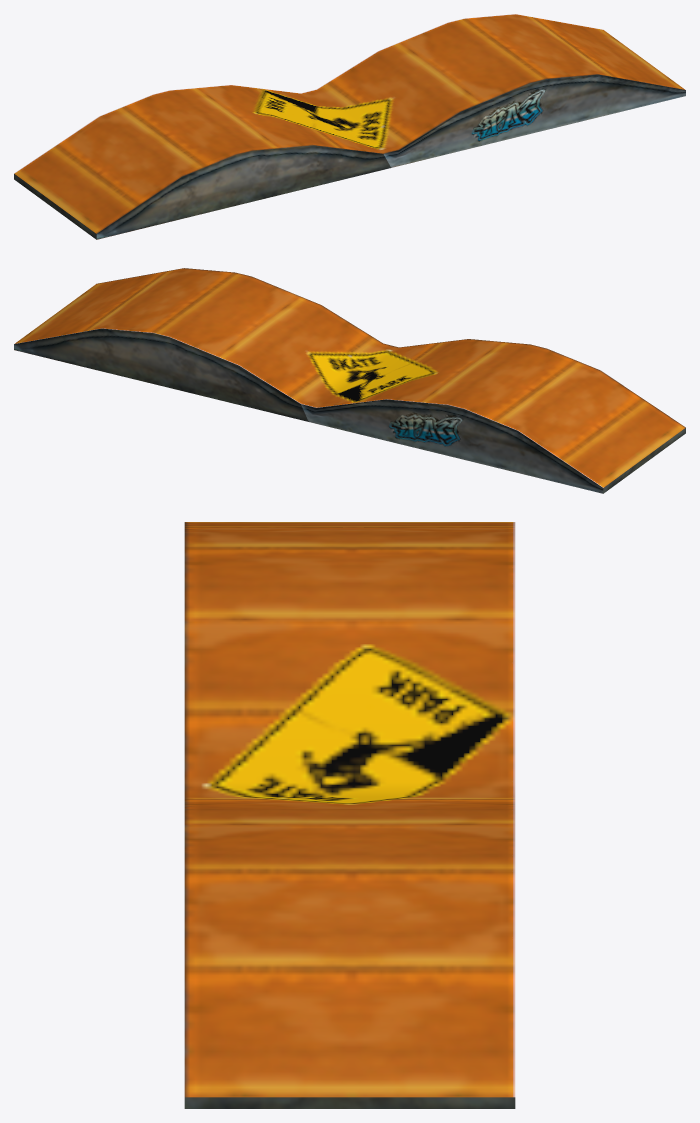
The model's file is wave.FBX.
3 views of the same model, one above another, from view 1: azimuth 30°, elevation 25°; view 2: azimuth 150°, elevation 25°; view 3: azimuth 270°, elevation 25° (orthographic). The views are drawn at different scales.
Parts seen in each view (by area): view 1: wave; view 2: wave; view 3: wave.
Boxes of the visible parts, <box> form: wave: <box>14,14,685,239</box>; wave: <box>14,268,685,493</box>; wave: <box>184,522,515,1108</box>.
Bounding box in the file's own units: 99.58 × 8.23 × 24.18.
1 material, 1 textured.
